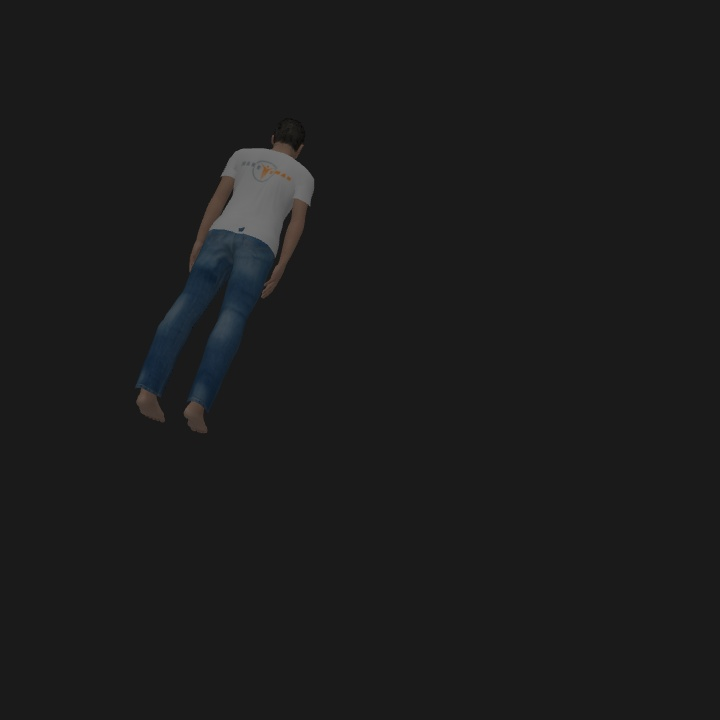victim: (133, 117, 312, 432)
